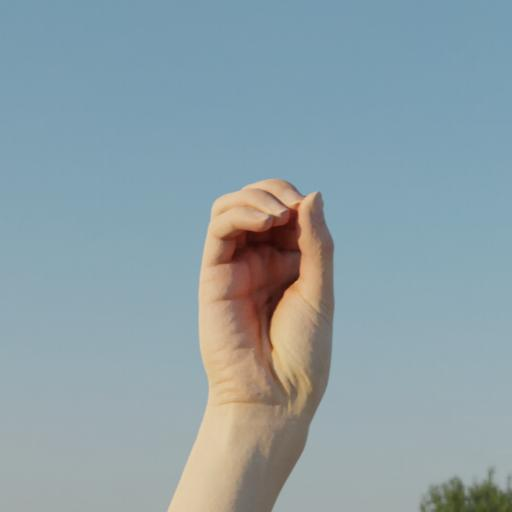O: (196, 176, 344, 408)
